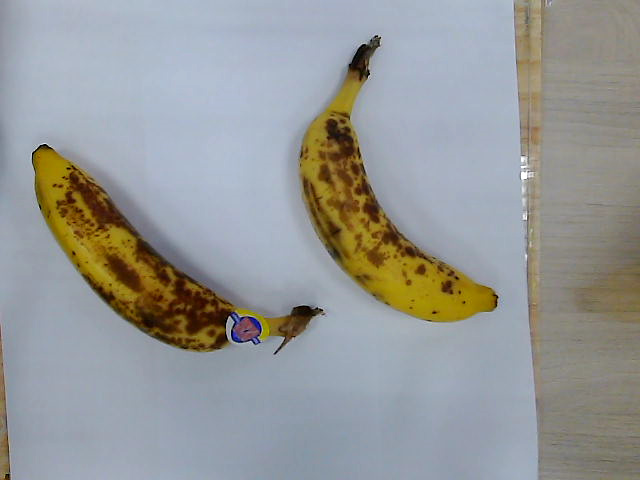rotten_banana: (30, 141, 319, 352), (298, 33, 500, 323)
